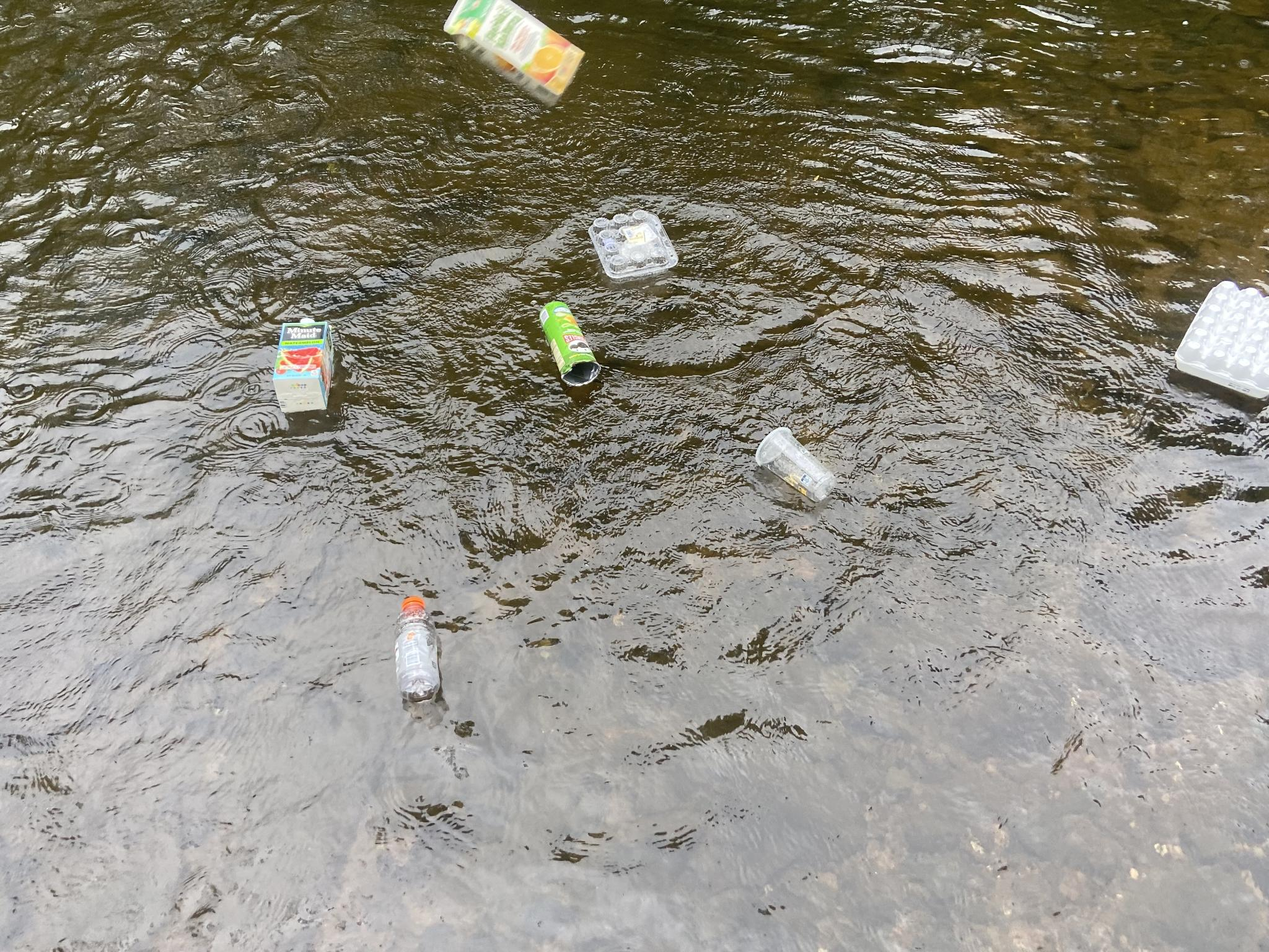cardboard: (441, 0, 588, 116), (270, 310, 342, 420)
metal: (534, 294, 606, 394)
plastic: (1163, 275, 1269, 409), (748, 416, 841, 504), (581, 203, 680, 283), (391, 590, 439, 708)
